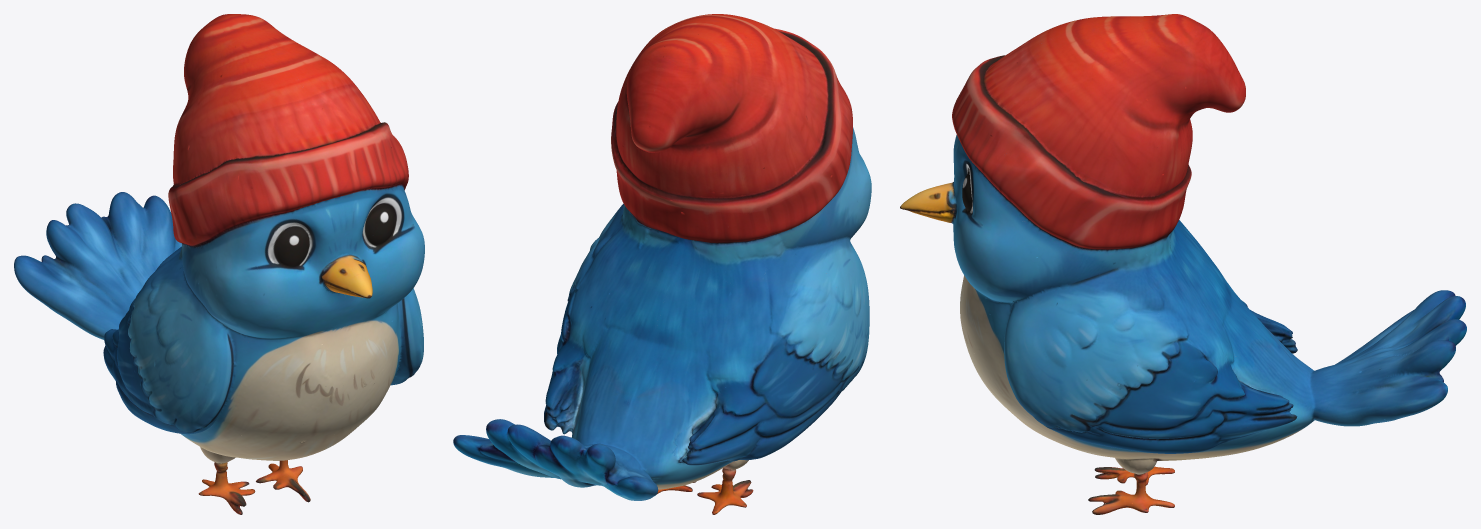
The model's file is pet_bird_hat_stand.glb.
3 views of the same model, side by side, from view 1: azimuth 30°, elevation 25°; view 2: azimuth 150°, elevation 25°; view 3: azimuth 270°, elevation 25° (orthographic). The views are drawn at different scales.
Parts seen in each view (by area): view 1: Mesh_0.038; view 2: Mesh_0.038; view 3: Mesh_0.038.
Boxes of the visible parts, x1=… form: Mesh_0.038: x1=14, y1=14, x2=424, y2=514; Mesh_0.038: x1=453, y1=14, x2=871, y2=514; Mesh_0.038: x1=900, y1=14, x2=1466, y2=514.
Bounding box in the file's own units: 0.8515 × 1.48 × 1.59.
1 material, 1 textured.
